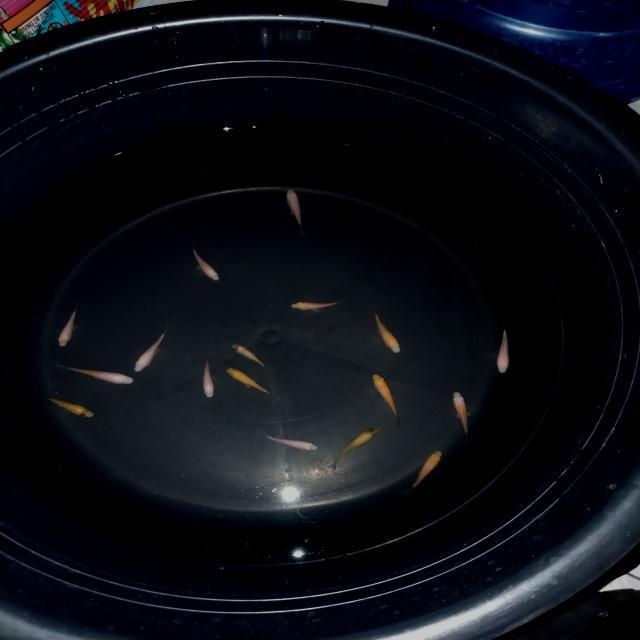nila: (54, 358, 137, 388), (330, 422, 380, 470), (32, 386, 98, 420), (402, 448, 444, 501), (131, 323, 172, 374), (364, 306, 406, 355), (368, 372, 404, 427), (222, 365, 276, 398), (53, 298, 85, 348), (256, 431, 321, 454), (450, 388, 472, 447), (188, 244, 222, 282), (284, 184, 306, 239), (228, 342, 268, 369), (494, 318, 512, 375), (201, 354, 218, 400), (290, 298, 344, 312)
